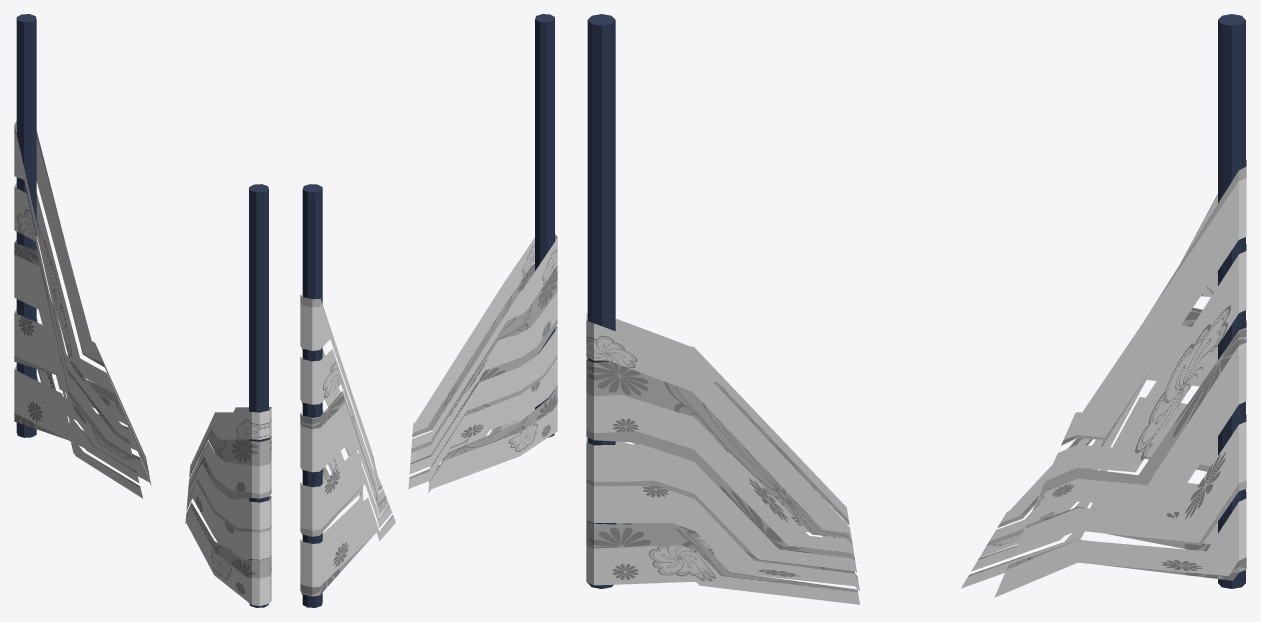
The model's file is BreakableWall.fbx.
3 views of the same model, side by side, from view 1: azimuth 30°, elevation 25°; view 2: azimuth 150°, elevation 25°; view 3: azimuth 270°, elevation 25° (orthographic). The views are drawn at different scales.
Visible parts, largest first — view 1: BreakableWall_GEO; view 2: BreakableWall_GEO; view 3: BreakableWall_GEO.
Boxes of the visible parts, <box> form: BreakableWall_GEO: <box>14,14,271,607</box>; BreakableWall_GEO: <box>300,14,557,607</box>; BreakableWall_GEO: <box>586,14,1246,604</box>.
Bounding box in the file's own units: 103 × 800 × 850.
